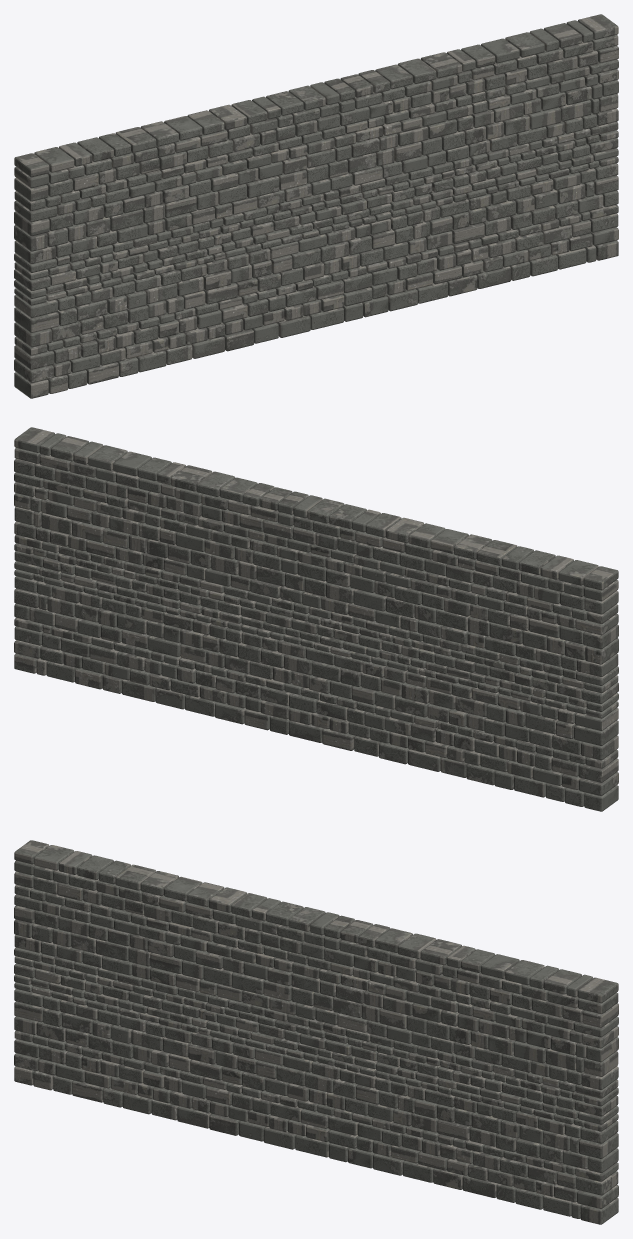
File: CastleWall.fbx
3 renders of one model, top to bottom at view 1: azimuth 30°, elevation 25°; view 2: azimuth 150°, elevation 25°; view 3: azimuth 330°, elevation 25°, orthographic.
Parts seen in each view (by area): view 1: Wall ORIGINAL.001; view 2: Wall ORIGINAL.001; view 3: Wall ORIGINAL.001.
Boxes of the visible parts, box(x1,y1,x2,y2) form: Wall ORIGINAL.001: box(14, 14, 618, 398); Wall ORIGINAL.001: box(14, 427, 618, 811); Wall ORIGINAL.001: box(14, 840, 618, 1224).
Size of the model in its own units: 3996 by 1494 by 214.
Materials: 1 (1 with a texture image).
